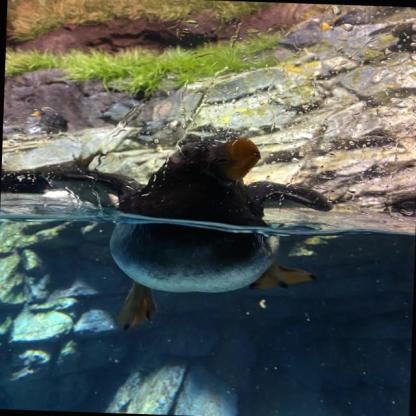puffin: (39, 132, 337, 338), (368, 19, 416, 53), (32, 104, 69, 135)
